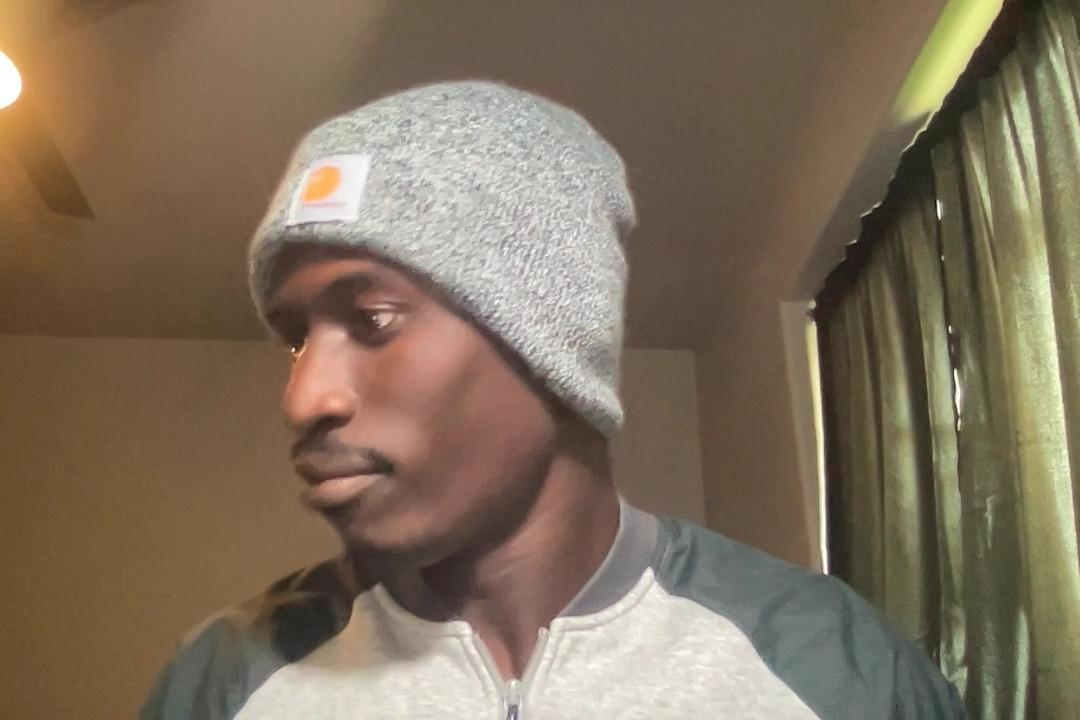face: (260, 128, 628, 588)
